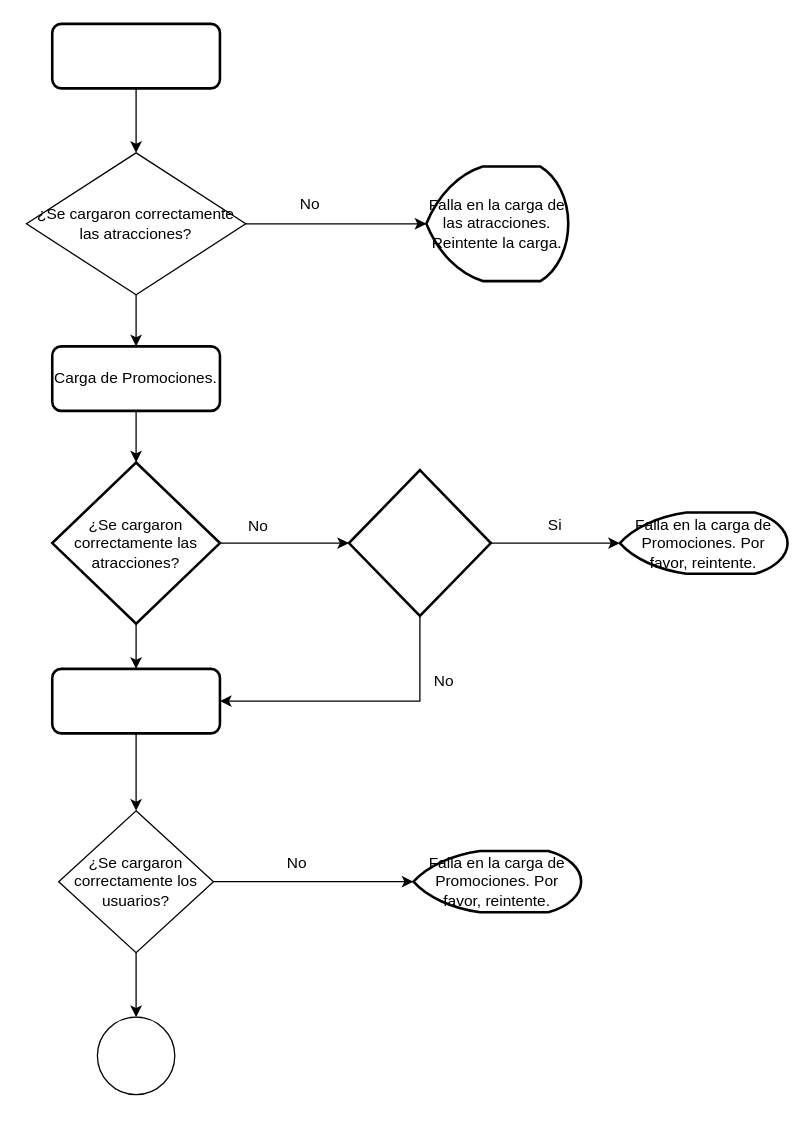
This 811x1143 diagram has some shape labels left out. Here are the shapes that lost their labels. From the top down, the centre of each, then its label:
At point 135,55: "Carga de Atracciones".
At point 419,542: "¿Es necesario cargar Promociones?".
At point 135,700: "Carga de usuarios.".
At point 135,1055: "Ejecucion del programa principal.".
